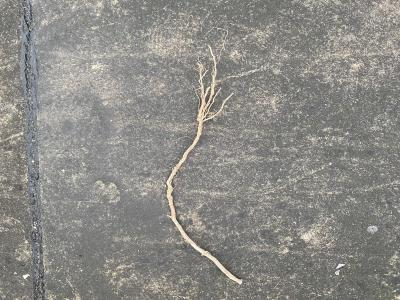Root: (166, 27, 242, 284)
